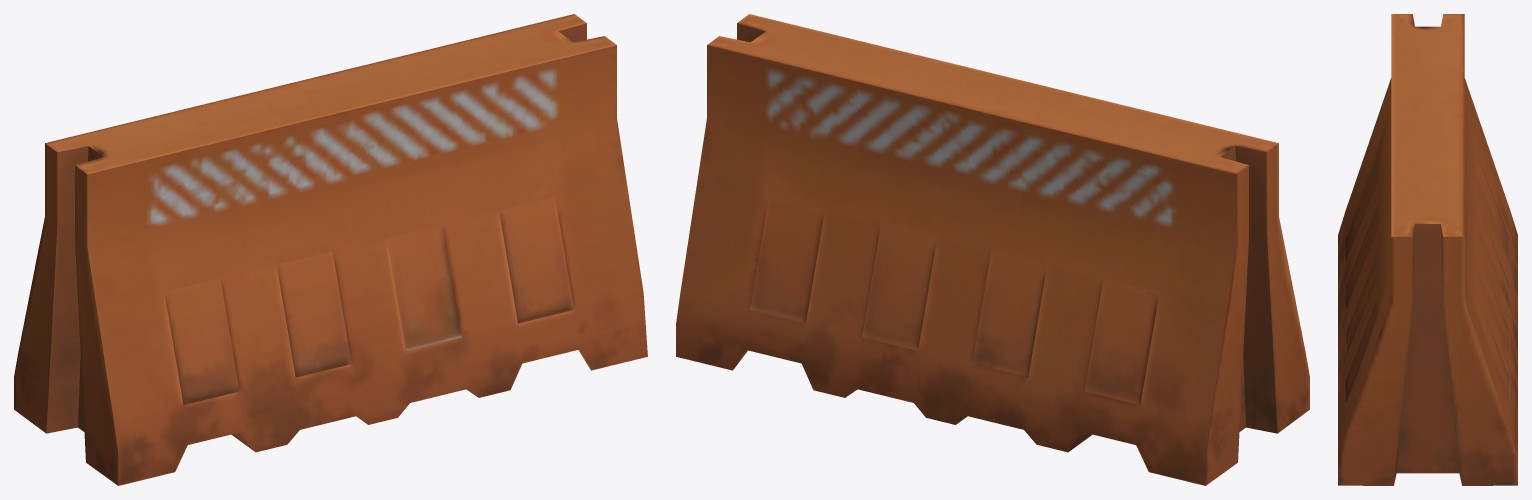
File: Traffic_Barricade.fbx
3 renders of one model, left to right at view 1: azimuth 30°, elevation 25°; view 2: azimuth 150°, elevation 25°; view 3: azimuth 270°, elevation 25°, orthographic. The views are drawn at different scales.
Visible parts, largest first — view 1: SM_Traffic_Barricade; view 2: SM_Traffic_Barricade; view 3: SM_Traffic_Barricade.
Boxes of the visible parts, bbox=[...] form: SM_Traffic_Barricade: bbox=[14, 14, 647, 485]; SM_Traffic_Barricade: bbox=[676, 14, 1309, 485]; SM_Traffic_Barricade: bbox=[1338, 14, 1517, 485].
Size of the model in its own units: 1.74 by 0.9093 by 0.594.
